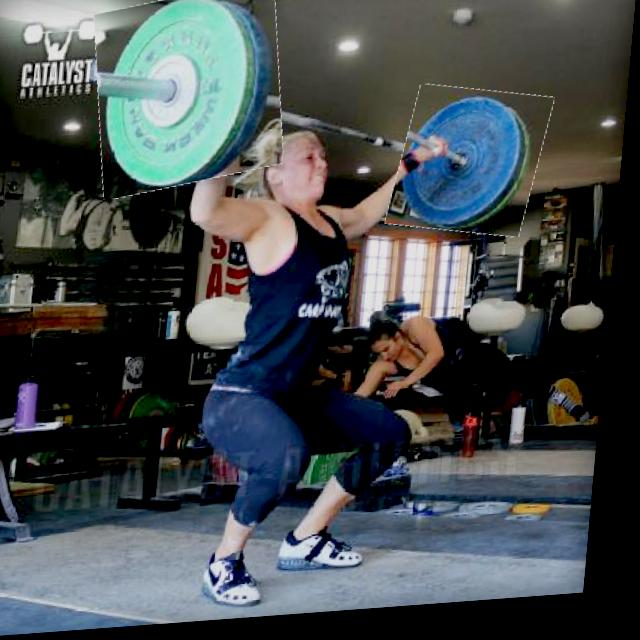barbell: (89, 1, 294, 199), (395, 90, 554, 249)
